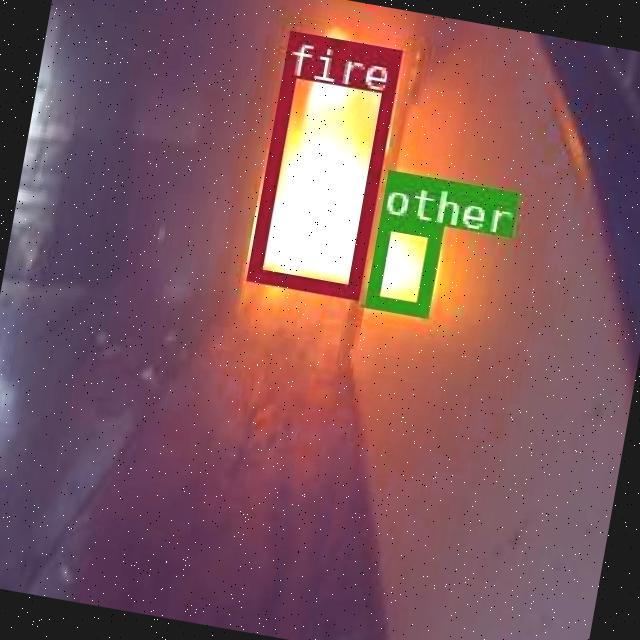fire: (244, 29, 399, 296)
